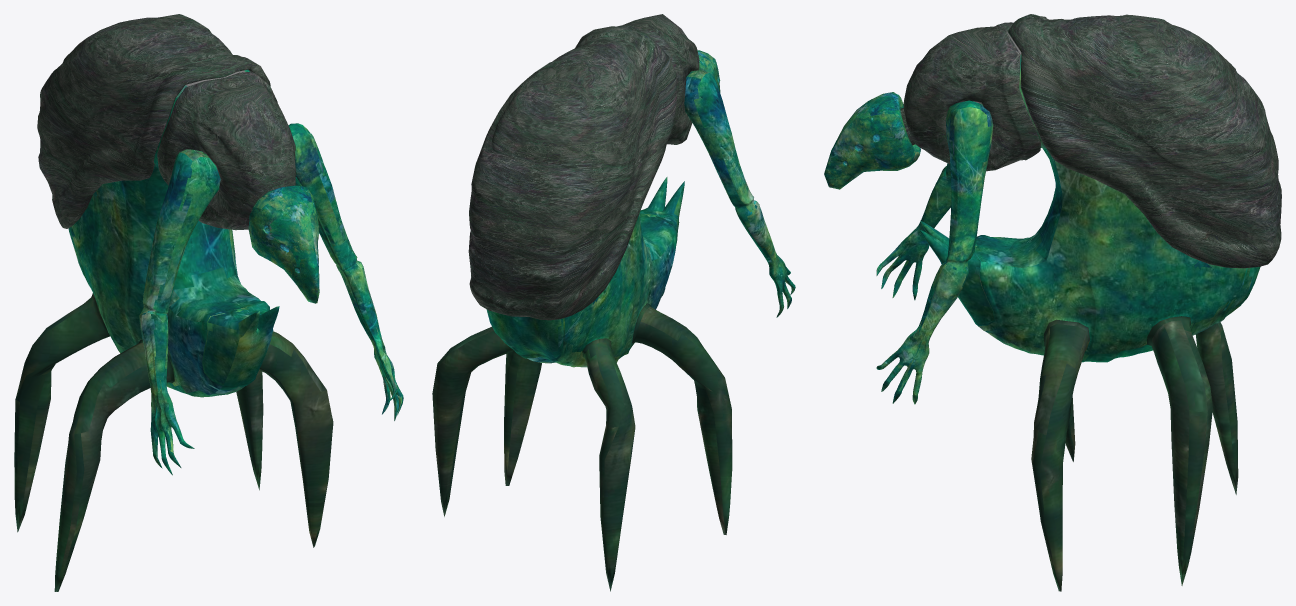
Rendered from Andar.0020.obj.
3 renders of one model, left to right at view 1: azimuth 30°, elevation 25°; view 2: azimuth 150°, elevation 25°; view 3: azimuth 270°, elevation 25°, orthographic. The views are drawn at different scales.
Visible parts, largest first — view 1: pCube14; view 2: pCube14; view 3: pCube14.
Boxes of the visible parts, <box> form: pCube14: <box>14,14,403,591</box>; pCube14: <box>432,14,795,591</box>; pCube14: <box>824,14,1281,591</box>.
Size of the model in its own units: 2.08 by 3.94 by 3.18.
5 materials, 4 textured.
